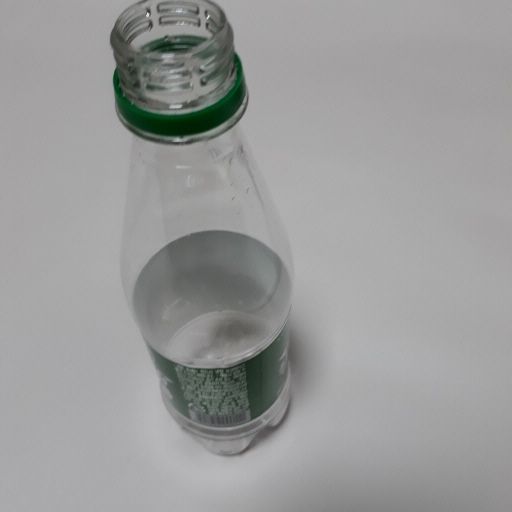Plastic_0: (101, 1, 300, 460)
